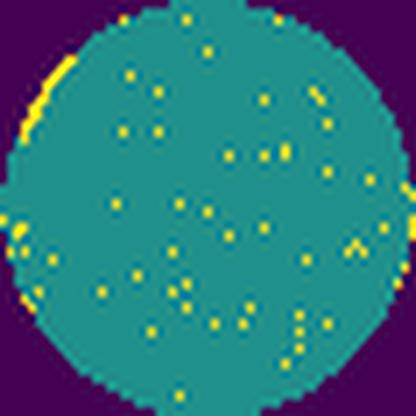Edge-Loc: (16, 49, 86, 149)
